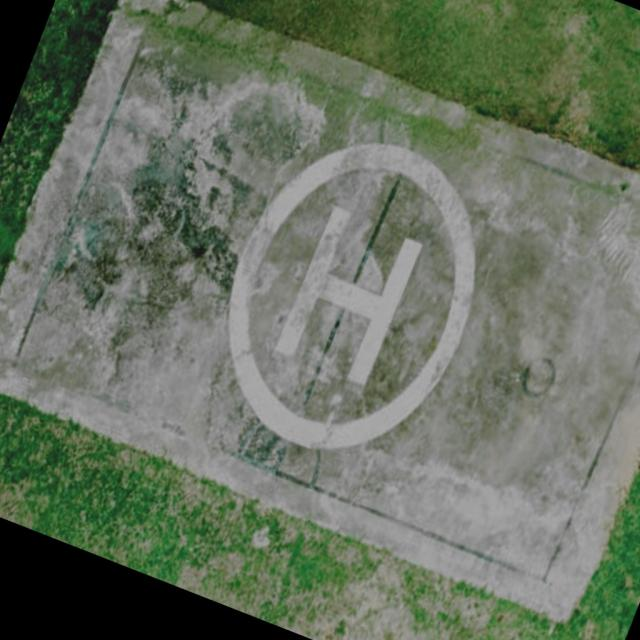helipad: (213, 135, 481, 459)
